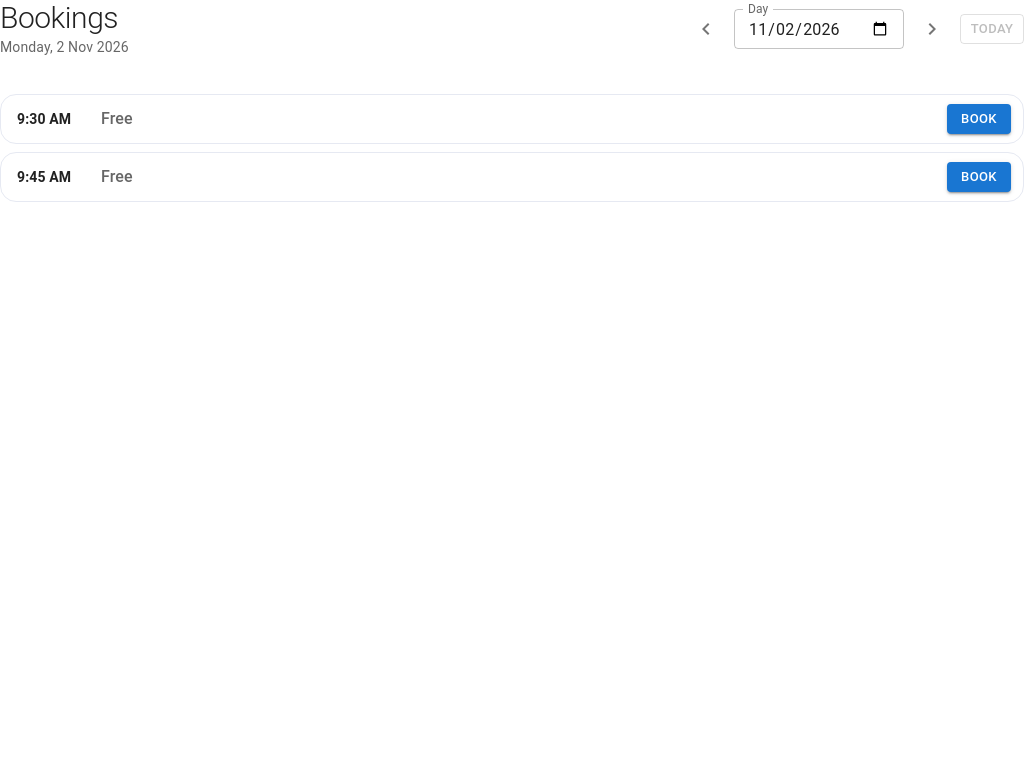
Test case: Book opens the book dialog for that slot
The width and height of the screenshot is (1024, 768).
Click the button "Book" in the row of "9:45 AM" at (979, 177), box [947,162,1011,192]
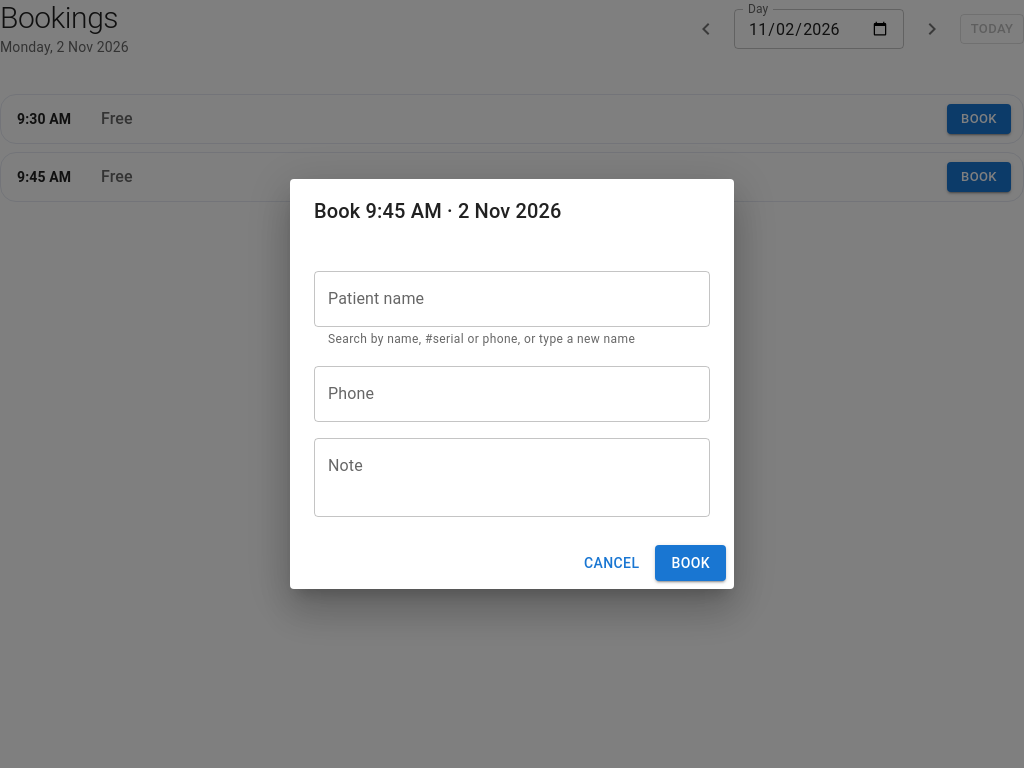
Result: the dialog "Book 9:45 AM" is shown at [290,179,734,589]
